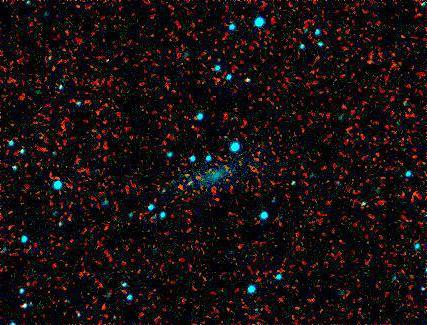star: (170, 160, 200, 190)
